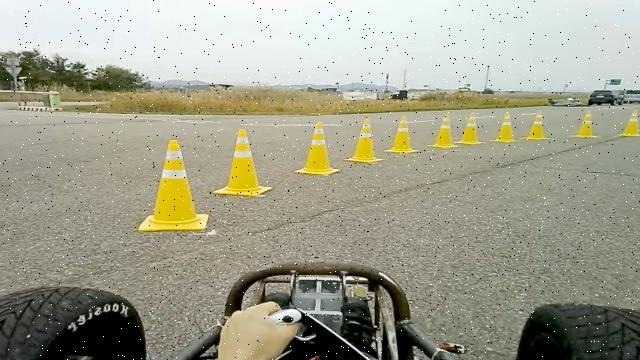yellow cone: (138, 139, 210, 232), (213, 128, 273, 196), (293, 121, 341, 175), (344, 117, 385, 163), (384, 114, 419, 154), (427, 113, 461, 148), (568, 109, 602, 138), (491, 111, 521, 143), (456, 112, 486, 144), (521, 112, 551, 140), (618, 109, 640, 136)
